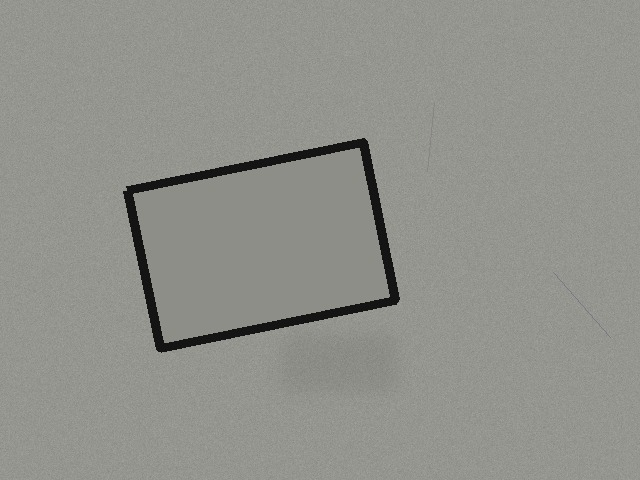parking_area: (127, 142, 395, 348)
